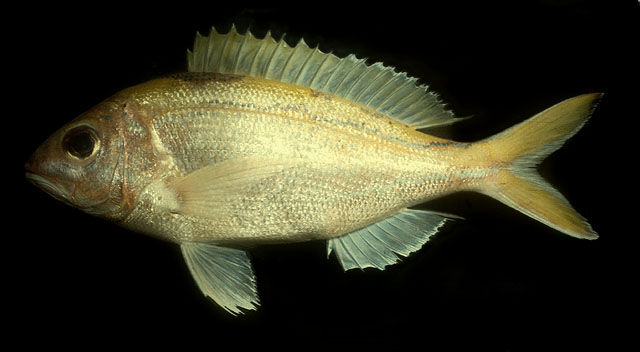fish: (28, 23, 601, 316)
